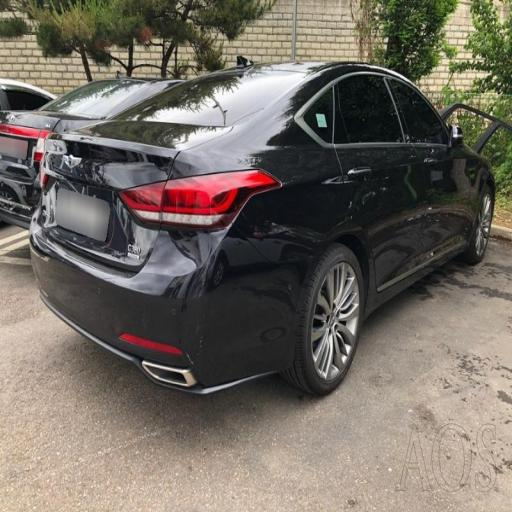dent: (132, 154, 240, 334)
